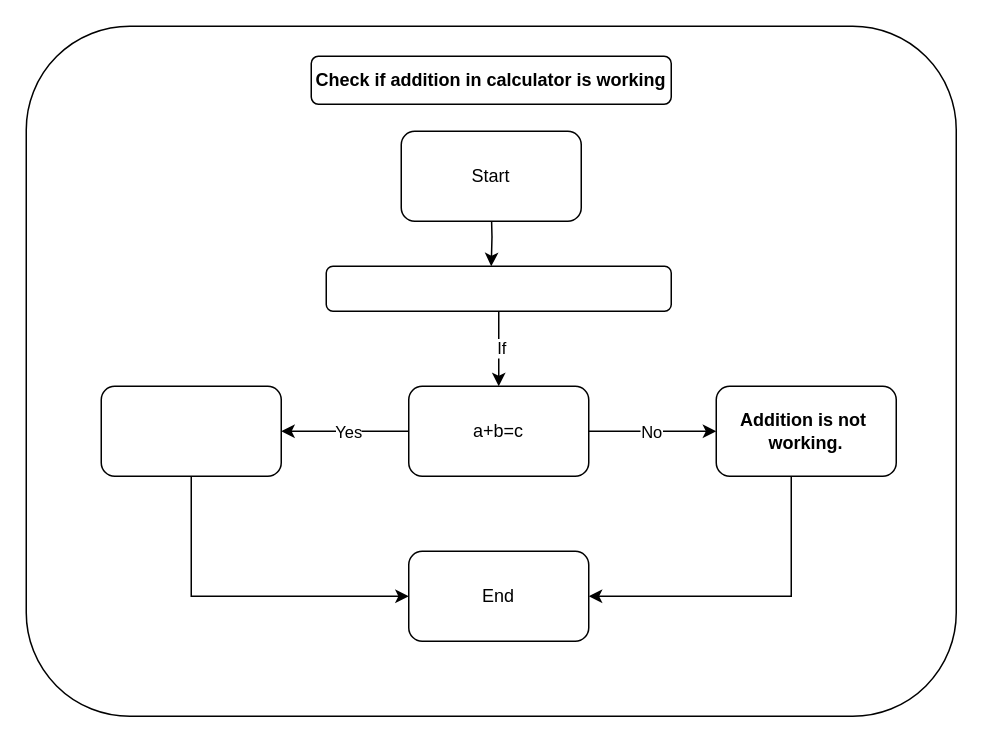
Image size: 983x743. Some labels were removed from this diagram. Each missing label, with the box of its shape:
Addition is working.: (100, 385, 281, 476)
Input two numbers: (325, 265, 671, 311)
